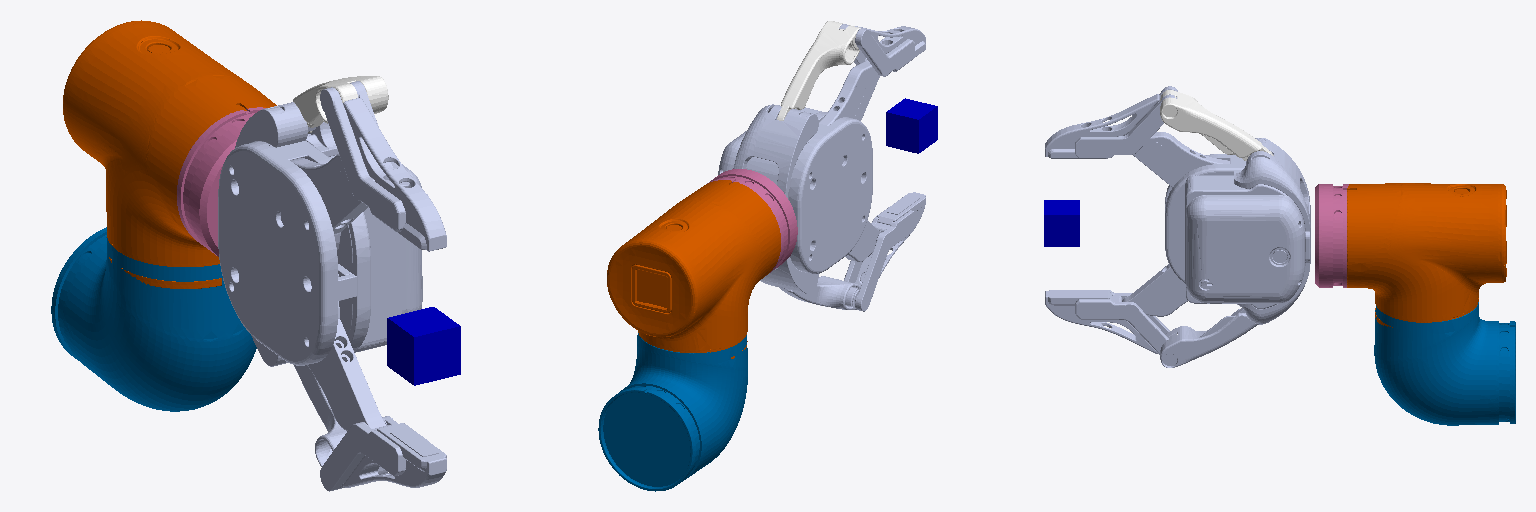
The robot description file, URDF, robot "cobot":
<?xml version="1.0"?>
<robot name="cobot" >
  <link name="base">
    <visual>
      <origin xyz = "0.0 0 0 " rpy = " 0 0 3.1415926"/>
      <geometry>
       <mesh filename="meshes/base.stl"/>
      </geometry>
    </visual>
    <collision>
      <origin xyz = "0.0 0 0 " rpy = " 0 0 3.1415926"/>
      <geometry>
       <mesh filename="meshes/base.stl"/>
      </geometry>
    </collision>
    <inertial>
        <mass value="0.8" />
    </inertial>
  </link>

  <link name="link1">
    <visual>
      <origin xyz = "0.115 -0.172 -0.086 " rpy = " 0 0 3.1415926"/>
      <geometry>
       <mesh filename="meshes/link1.stl"/>
      </geometry>
    </visual>
    <collision>
      <origin xyz = "0.115 -0.172 -0.086 " rpy = " 0 0 3.1415926"/>
      <geometry>
       <mesh filename="meshes/link1.stl"/>
      </geometry>
    </collision>
    <inertial>
        <mass value="0.5" />
    </inertial>
  </link>


  <link name="link2">
    <visual>
      <origin xyz = "-0.075 -0.115 -0.022 " rpy = " 1.5708 0 1.5708"/>
      <geometry>
       <mesh filename="meshes/link2.stl"/>
      </geometry>
    </visual>
    <collision>
      <origin xyz = "-0.075 -0.115 -0.022 " rpy = " 1.5708 0 1.5708"/>
      <geometry>
       <mesh filename="meshes/link2.stl"/>
      </geometry>
    </collision>
    <inertial>
        <mass value="0.5" />
    </inertial>
  </link>


  <link name="link3">
    <visual>
      <origin xyz = "-0.22 -0.115 0.142 " rpy = " 1.5708 0 1.5708"/>
      <geometry>
       <mesh filename="meshes/link3.stl"/>
      </geometry>
    </visual>
    <collision>
      <origin xyz = "-0.22 -0.115 0.142 " rpy = " 1.5708 0 1.5708"/>
      <geometry>
       <mesh filename="meshes/link3.stl"/>
      </geometry>
    </collision>
    <inertial>
        <mass value="0.4" />
    </inertial>
  </link>


  <link name="link4">
    <visual>
      <origin xyz = "-0.115 0.338 -0.1435" rpy = "1.5708 0 0"/>
      <geometry>
       <mesh filename="meshes/link4.stl"/>
      </geometry>
    </visual>
    <collision>
      <origin xyz = "-0.115 0.338 -0.1435" rpy = "1.5708 0 0"/>
      <geometry>
       <mesh filename="meshes/link4.stl"/>
      </geometry>
    </collision>
    <inertial>
        <mass value="0.3" />
    </inertial>
  </link>


  <link name="link5">
    <visual>
      <origin xyz = "-0.1149 -0.0322  -0.482 " rpy = "0 0 0"/>
      <geometry>
       <mesh filename="meshes/link5.stl"/>
      </geometry>
    </visual>
    <collision>
      <origin xyz = "-0.1149 -0.0322  -0.482 " rpy = "0 0 0"/>
      <geometry>
       <mesh filename="meshes/link5.stl"/>
      </geometry>
    </collision>
    <inertial>
        <mass value="0.2" />
    </inertial>
  </link>


  <link name="link6">
    <visual>
      <origin xyz = "-0.11478 0.433 -0.15 " rpy = "1.5708 0 0"/>
      <geometry>
       <mesh filename="meshes/link6.stl"/>
      </geometry>
    </visual>
    <collision>
      <origin xyz = "-0.11478 0.433 -0.15 " rpy = "1.5708 0 0"/>
      <geometry>
       <mesh filename="meshes/link6.stl"/>
      </geometry>
    </collision>
    <inertial>
        <mass value="0.1" />
    </inertial>
  </link>


  <joint name="cobot_joint1" type="revolute">
    <axis xyz="0 0 1"/>
    <limit effort = "1000.0" lower = "-2.96" upper = "2.96" velocity = "0"/>
    <parent link="base"/>
    <child link="link1"/>
    <origin xyz= "0 0 0.162" rpy = "0 0 0"/> 
  </joint>


  <joint name="cobot_joint2" type="revolute">
    <axis xyz="0 0 1"/>
    <limit effort = "1000.0" lower = "-2.79" upper = "2.79" velocity = "0"/>
    <parent link="link1"/>
    <child link="link2"/>
    <origin xyz= "0 0 0" rpy = "0 -1.5708 1.5708"/> 
  </joint>



  <joint name="cobot_joint3" type="revolute">
    <axis xyz="0 0 1"/>
    <limit effort = "1000.0" lower = "-2.79" upper = "2.79" velocity = "0"/>
    <parent link="link2"/>
    <child link="link3"/>
    <origin xyz= "0.13635 0 0" rpy = "0 0 0 "/> 
  </joint>

  <joint name="cobot_joint4" type="revolute">
    <axis xyz="0 0 1"/>
    <limit effort = "1000.0" lower = "-2.79" upper = "2.79" velocity = "0"/>
    <parent link="link3"/>
    <child link="link4"/>
    <origin xyz= "0.1205 0 0.082" rpy = "0 0 1.57080 "/> 
  </joint>

  <joint name="cobot_joint5" type="revolute">
    <axis xyz="0 0 1"/>
    <limit effort = "1000.0" lower = "-2.96" upper = "2.96" velocity = "0"/>
    <parent link="link4"/>
    <child link="link5"/>
    <origin xyz= "0 -0.084 0.0" rpy = "1.5708 0 0"/>
  </joint>


  <joint name="cobot_joint6" type="revolute">
    <axis xyz="0 0 1"/>
    <limit effort = "1000.0" lower = "-3.05" upper = "3.05" velocity = "0"/>
    <parent link="link5"/>
    <child link="link6"/>
    <origin xyz= "0 0.06635 0.0" rpy = "-1.5708 0 0"/>
  </joint>
  
  <link name="gripper_base">
    <inertial>
      <origin xyz="0.035129 -0.00012799 0.003337" rpy="0 0 0" />
      <mass value="0.13601" />
      <inertia ixx="8.9317E-05" ixy="-1.505E-07" ixz="-4.0275E-06" iyy="6.2643E-05" iyz="-1.4013E-07" izz="0.00012182" />
    </inertial>
    <visual>
      <origin xyz="0 0 0" rpy="0 0 0" />
      <geometry>
        <mesh filename="meshes/gripper_base.stl" />
      </geometry>
      <material name="">
        <color rgba="0.79608 0.82353 0.93725 1" />
      </material>
    </visual>
    <collision>
      <origin xyz="0 0 0" rpy="0 0 0" />
      <geometry>
        <mesh filename="meshes/gripper_base.stl" />
      </geometry>
    </collision>
  </link>
  
  <joint name="robot_to_hand" type="fixed">
    <axis xyz="0 0 1"/>
    <limit effort = "100.0" lower = "-3.05" upper = "3.05" velocity = "0"/>
    <parent link="link6"/>
    <child link="gripper_base"/>
     <origin xyz= "0 0 0.0" rpy = "0.0 -1.5708 0"/>
  </joint>
  
  <link name="gripper_left_link1">
    <inertial>
      <origin xyz="0.032345 0.022204 0.013204" rpy="0 0 0" />
      <mass value="0.0078254" />
      <inertia ixx="9.2308E-07" ixy="-1.1701E-06" ixz="2.824E-07" iyy="2.5043E-06" iyz="1.5162E-07" izz="3.0459E-06" />
    </inertial>
    <visual>
      <origin xyz="0 0 0" rpy="0 0 0" />
      <geometry>
        <mesh filename="meshes/gripper_left_link1.stl" />
      </geometry>
      <material name="">
        <color rgba="0.79608 0.82353 0.93725 1" />
      </material>
    </visual>
    <collision>
      <origin xyz="0 0 0" rpy="0 0 0" />
      <geometry>
        <mesh filename="meshes/gripper_left_link1.stl" />
      </geometry>
    </collision>
  </link>

  <joint name="gripper_controller" type="revolute">
    <origin xyz="0.028185 0.044392 -0.0189" rpy="0 0 0.00017976" />
    <parent link="gripper_base" />
    <child link="gripper_left_link1" />
    <axis xyz="0 0 1" />
    <limit lower="-1.57" upper="1.57" effort="100" velocity="10" />
  </joint>

  <link name="gripper_left_link2">
    <inertial>
      <origin xyz="0.03339 -0.020812 0.0073585" rpy="0 0 0" />
      <mass value="0.011882" />
      <inertia ixx="1.3182E-06" ixy="1.5775E-06" ixz="-2.0516E-09" iyy="3.5311E-06" iyz="4.9329E-10" izz="4.4328E-06" />
    </inertial>
    <visual>
      <origin xyz="0 0 0" rpy="0 0 0" />
      <geometry>
        <mesh filename="meshes/gripper_left_link2.stl" />
      </geometry>
      <material name="">
        <color rgba="0.79608 0.82353 0.93725 1" />
      </material>
    </visual>
    <collision>
      <origin xyz="0 0 0" rpy="0 0 0" />
      <geometry>
        <mesh filename="meshes/gripper_left_link2.stl" />
      </geometry>
    </collision>
  </link>

  <joint name="left1_to_left2" type="revolute">
    <origin xyz="0.051054 0.032999 -0.004" rpy="0 0 0" />
    <parent link="gripper_left_link1" />
    <child link="gripper_left_link2" />
    <axis xyz="0 0 1" />
    <limit lower="-1.57" upper="1.57" effort="100" velocity="10" />
    <mimic joint="gripper_controller" multiplier="-1" offset="0" />
  </joint>

  <link name="gripper_left_link3">
    <inertial>
      <origin xyz="0.014336 0.009763 -0.0034785" rpy="0 0 0" />
      <mass value="0.013252" />
      <inertia ixx="2.1327E-06" ixy="-1.0894E-06" ixz="2.1303E-09" iyy="2.0648E-06" iyz="1.4602E-10" izz="4.0873E-06" />
    </inertial>
    <visual>
      <origin xyz="0 0 0" rpy="0 0 0" />
      <geometry>
        <mesh filename="meshes/gripper_left_link3.stl" />
      </geometry>
      <material name="">
        <color rgba="0.79608 0.82353 0.93725 1" />
      </material>
    </visual>
    <collision>
      <origin xyz="0 0 0" rpy="0 0 0" />
      <geometry>
        <mesh filename="meshes/gripper_left_link3.stl" />
      </geometry>
    </collision>
  </link>

  <joint name="base_to_left3" type="revolute">
    <origin xyz="0.0505 0.01836 -0.0119" rpy="0 0 0.00017976" />
    <parent link="gripper_base" />
    <child link="gripper_left_link3" />
    <axis xyz="0 0 1" />
    <limit lower="-1.57" upper="1.57" effort="100" velocity="10" />
    <mimic joint="gripper_controller" multiplier="1" offset="0" />
  </joint>

  <link name="gripper_right_link1">
    <inertial>
      <origin xyz="0.032337 -0.022215 0.013204" rpy="0 0 0" />
      <mass value="0.0078253" />
      <inertia  ixx="9.2391E-07" ixy="1.1707E-06" ixz="2.8235E-07" iyy="2.5035E-06" iyz="-1.5171E-07" izz="3.0459E-06" />
    </inertial>
    <visual>
      <origin xyz="0 0 0" rpy="0 0 0" />
      <geometry>
        <mesh filename="meshes/gripper_right_link1.stl" />
      </geometry>
      <material name="">
        <color rgba="1 1 1 1" />
      </material>
    </visual>
    <collision>
      <origin xyz="0 0 0" rpy="0 0 0" />
      <geometry>
        <mesh filename="meshes/gripper_right_link1.stl" />
      </geometry>
    </collision>
  </link>

  <joint name="base_to_right1" type="revolute">
    <origin xyz="0.028185 -0.044392 -0.0189" rpy="0 0 0.00017976" />
    <parent link="gripper_base" />
    <child link="gripper_right_link1" />
    <axis xyz="0 0 1" />
    <limit lower="-1.57" upper="1.57" effort="100" velocity="10" />
    <mimic joint="gripper_controller" multiplier="-1" offset="0" />
  </joint>

  <link name="gripper_right_link2">
    <inertial>
      <origin xyz="0.033398 0.0208 0.0074387" rpy="0 0 0" />
      <mass value="0.011882" />
      <inertia ixx="1.3171E-06" ixy="-1.5767E-06" ixz="2.0518E-09" iyy="3.5322E-06" iyz="4.9255E-10" izz="4.4328E-06" />
    </inertial>
    <visual>
      <origin xyz="0 0 0" rpy="0 0 0" />
      <geometry>
        <mesh filename="meshes/gripper_right_link2.stl" />
      </geometry>
      <material name="">
        <color rgba="0.79608 0.82353 0.93725 1" />
      </material>
    </visual>
    <collision>
      <origin xyz="0 0 0" rpy="0 0 0" />
      <geometry>
        <mesh filename="meshes/gripper_right_link2.stl" />
      </geometry>
    </collision>
  </link>

  <joint name="right1_to_right2" type="revolute">
    <origin xyz="0.051042 -0.033017 -0.0039935" rpy="0 0 0" />
    <parent link="gripper_right_link1" />
    <child link="gripper_right_link2" />
    <axis xyz="0 0 1" />
    <limit lower="-1.57" upper="1.57" effort="100" velocity="10" />
    <mimic joint="base_to_right1" multiplier="-1" offset="0" />
  </joint>

  <link name="gripper_right_link3">
    <inertial>
      <origin xyz="0.014333 -0.0097681 -0.00054725" rpy="0 0 0" />
      <mass value="0.013252" />
      <inertia ixx="2.1335E-06" ixy="1.0894E-06" ixz="-2.1302E-09" iyy="2.064E-06" iyz="1.4679E-10" izz="4.0873E-06" />
    </inertial>
    <visual>
      <origin xyz="0 0 0" rpy="0 0 0" />
      <geometry>
        <mesh filename="meshes/gripper_right_link3.stl" />
      </geometry>
      <material name="">
        <color rgba="0.79608 0.82353 0.93725 1" />
      </material>
    </visual>
    <collision>
      <origin xyz="0 0 0" rpy="0 0 0" />
      <geometry>
        <mesh filename="meshes/gripper_right_link3.stl" />
      </geometry>
    </collision>
  </link>

  <joint name="base_to_right3" type="revolute">
    <origin xyz="0.0505 -0.01836 -0.014802" rpy="0 0 0.00017976" />
    <parent link="gripper_base" />
    <child link="gripper_right_link3" />
    <axis xyz="0 0 1" />
    <limit lower="-1.57" upper="1.57" effort="100" velocity="10" />
    <mimic joint="base_to_right1" multiplier="1" offset="0" />
  </joint>
  <link name="grasp_target">
    <inertial>
      <origin rpy="0 0 0" xyz="0 0 0"/>
      <mass value="0.0"/>
      <inertia ixx="0.1" ixy="0" ixz="0" iyy="0.1" iyz="0" izz="0.1"/>
    </inertial>
     <visual>
      <geometry>
        <box size="0.02 0.02 0.02"/>
      </geometry>
      <origin xyz="0 0 0"/>
      <material name="blue">
        <color rgba="0 0 .8 1"/>
      </material>
    </visual>
  </link>
   <joint name="grasptarget_hand" type="fixed">
    <parent link="gripper_base"/>
    <child link="grasp_target"/>
    <origin rpy="0 0 0" xyz="0.14 0 -0.016"/>
  </joint>
</robot>

--- Render facts (derived) ---
3 views of the same robot in one strip: view 1: azimuth 30°, elevation 25°; view 2: azimuth 150°, elevation 25°; view 3: azimuth 270°, elevation 25° (orthographic).
Robot: cobot — 15 links, 14 joints (12 revolute, 2 fixed); root link base; default pose: all joints at 0.
Visible links, largest first — view 1: gripper_base, link5, link4, gripper_right_link2, gripper_left_link2, link6, grasp_target, gripper_left_link3, gripper_right_link3, gripper_right_link1, gripper_left_link1; view 2: link5, link4, gripper_base, gripper_left_link2, gripper_right_link1, gripper_right_link2, grasp_target, link6, gripper_right_link3, gripper_left_link1, gripper_left_link3; view 3: gripper_base, link5, link4, gripper_right_link2, gripper_left_link2, link6, gripper_right_link1, gripper_left_link1, gripper_right_link3, gripper_left_link3, grasp_target.
Link boxes in pixels (x1,y1,x2,y2): gripper_base: [218, 102, 422, 366]; link5: [63, 20, 276, 288]; link4: [51, 227, 256, 411]; gripper_right_link2: [320, 81, 446, 251]; gripper_left_link2: [320, 416, 446, 491]; link6: [177, 107, 265, 256]; grasp_target: [387, 307, 460, 385]; gripper_left_link3: [307, 301, 385, 430]; gripper_right_link3: [281, 154, 367, 251]; gripper_right_link1: [293, 76, 388, 132]; gripper_left_link1: [294, 365, 387, 488]; link5: [607, 180, 780, 358]; link4: [598, 333, 747, 491]; gripper_base: [718, 104, 872, 293]; gripper_left_link2: [844, 192, 925, 311]; gripper_right_link1: [777, 21, 860, 120]; gripper_right_link2: [839, 24, 925, 76]; grasp_target: [886, 98, 937, 153]; link6: [707, 169, 797, 275]; gripper_right_link3: [819, 59, 879, 163]; gripper_left_link1: [778, 276, 860, 309]; gripper_left_link3: [845, 220, 880, 261]; gripper_base: [1165, 138, 1310, 324]; link5: [1347, 183, 1506, 327]; link4: [1374, 302, 1515, 425]; gripper_right_link2: [1045, 86, 1177, 158]; gripper_left_link2: [1045, 290, 1169, 354]; link6: [1315, 184, 1348, 287]; gripper_right_link1: [1160, 90, 1273, 160]; gripper_left_link1: [1160, 308, 1258, 367]; gripper_right_link3: [1133, 132, 1229, 187]; gripper_left_link3: [1122, 264, 1187, 316]; grasp_target: [1044, 200, 1079, 246].
Size in the robot's own frame: 0.0594 by 0.2656 by 0.1975 metres.
Meshes: 14 distinct files referenced, 10 mesh visuals loaded (10 binary STL); not drawn: 4 (reference not matched to a file when rendering).
